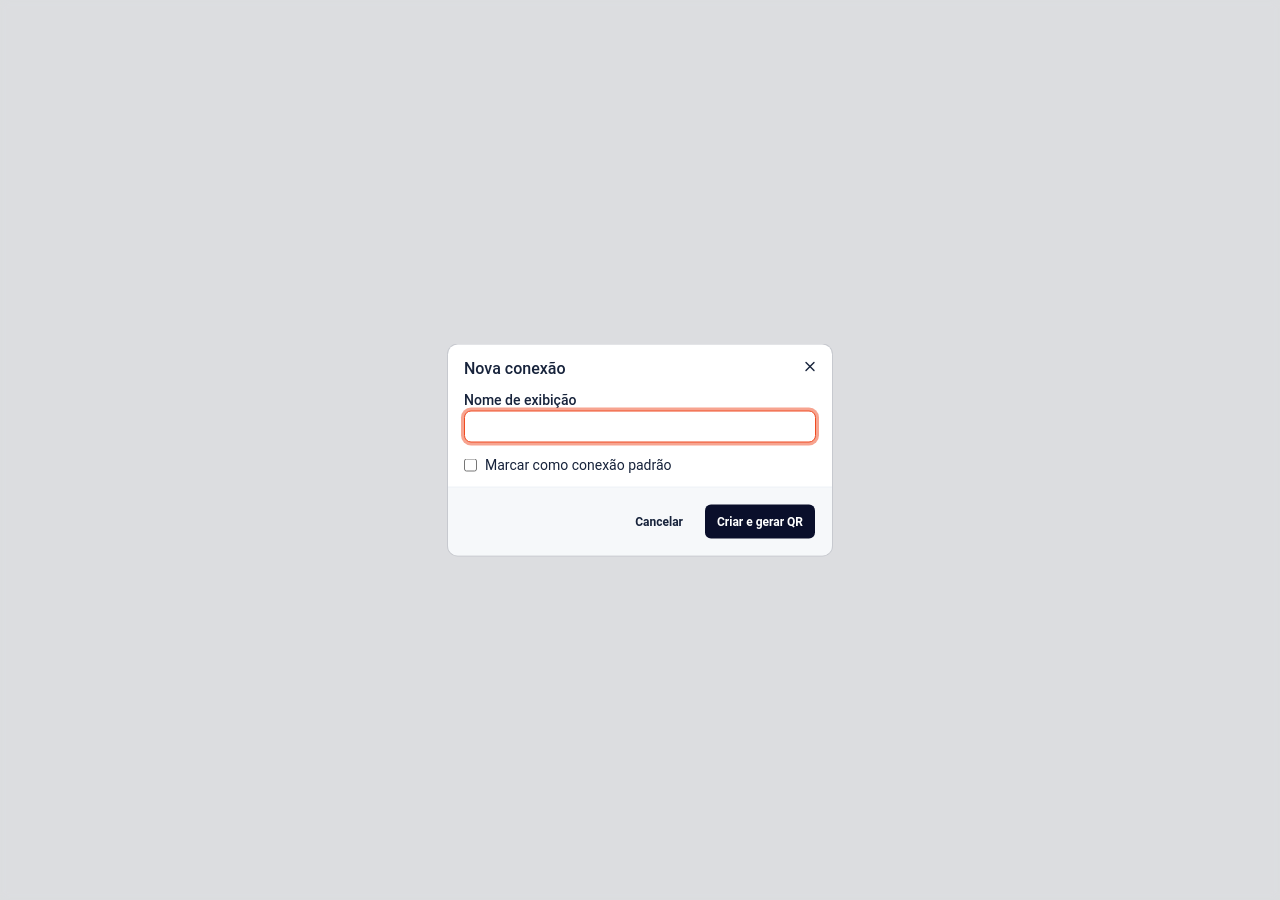
CreateInstanceDialog › shows zod validation error when name is too short
This screenshot has width=1280, height=900.
In the field labelled "Nome de exibição": (640, 426) [464,410,816,442], type "A"
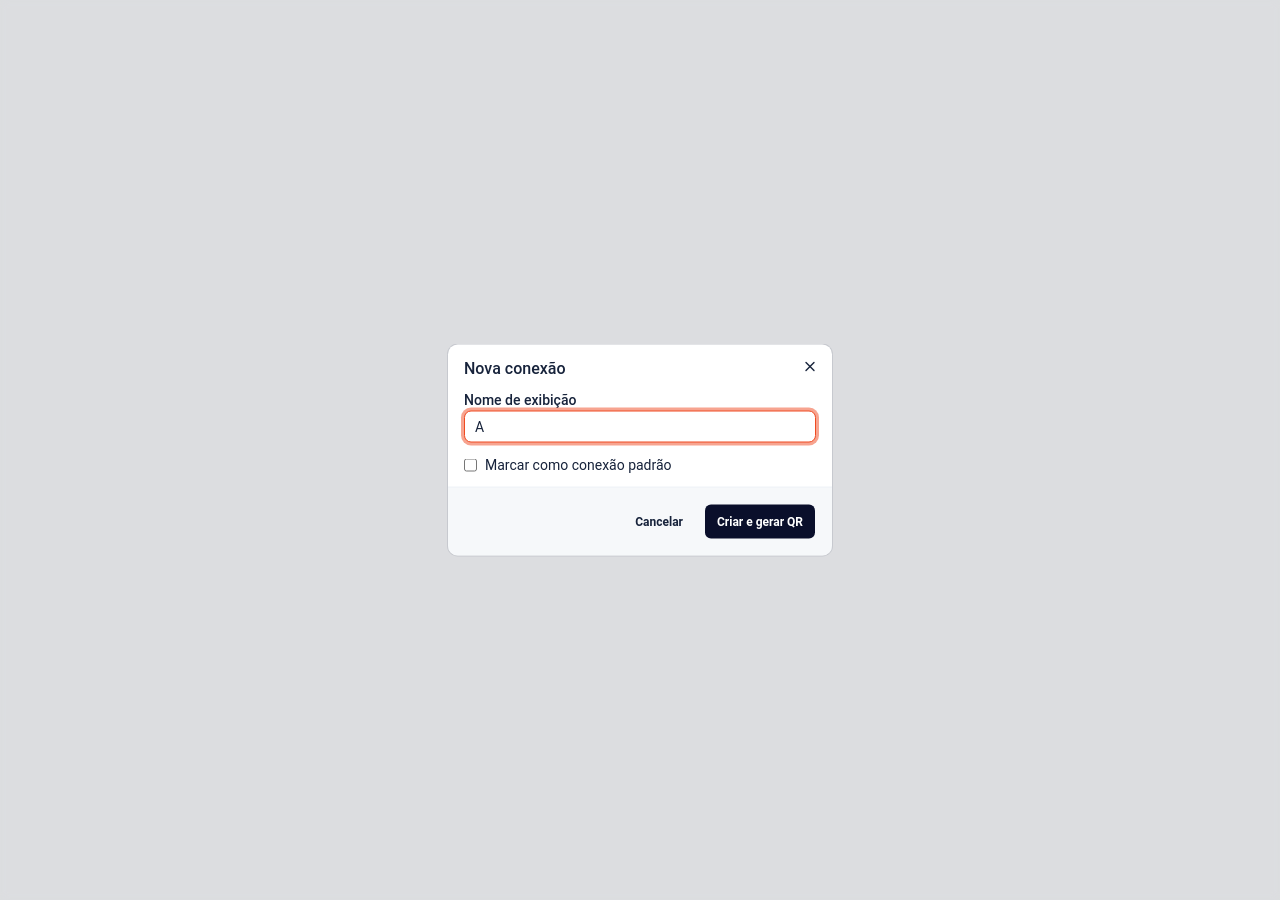
Click the button "Criar e gerar QR": (760, 522) [704,504,816,540]
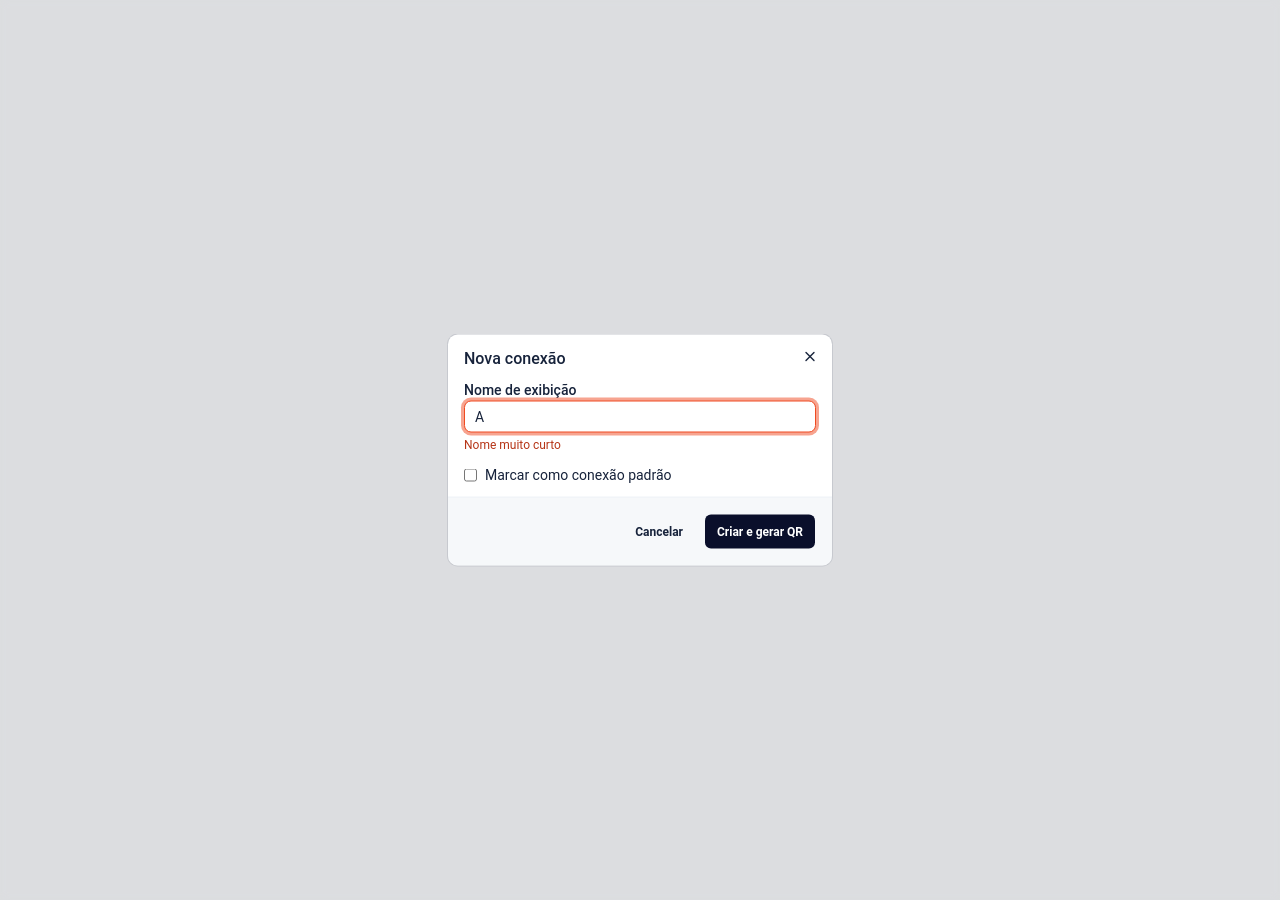
expect the text "Nome muito curto" is shown: met, box [464,438,561,452]
